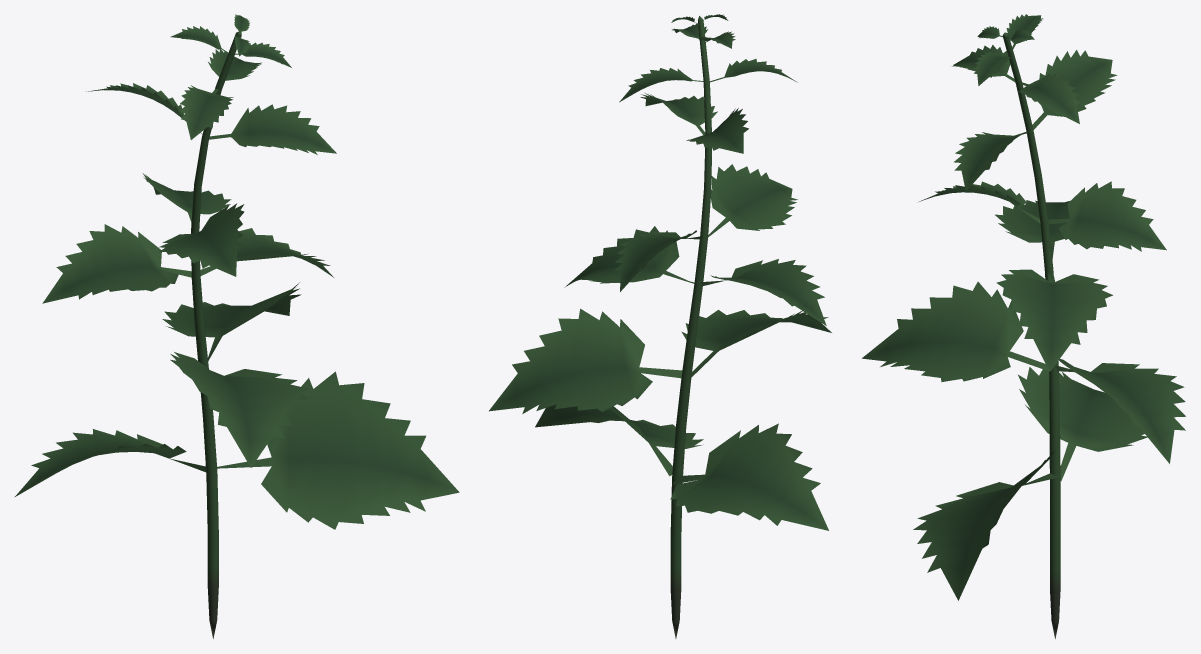
The picture shows the model from 3 angles, left to right: view 1: azimuth 30°, elevation 25°; view 2: azimuth 150°, elevation 25°; view 3: azimuth 270°, elevation 25°; orthographic projection. The views are drawn at different scales.
Parts seen in each view (by area): view 1: base.590; view 2: base.590; view 3: base.590.
Boxes of the visible parts, left/top/right/bottom form: base.590: left=15, top=14, right=459, bottom=638; base.590: left=489, top=14, right=831, bottom=638; base.590: left=862, top=14, right=1185, bottom=638.
Size of the model in its own units: 0.31 by 0.5 by 0.24.
